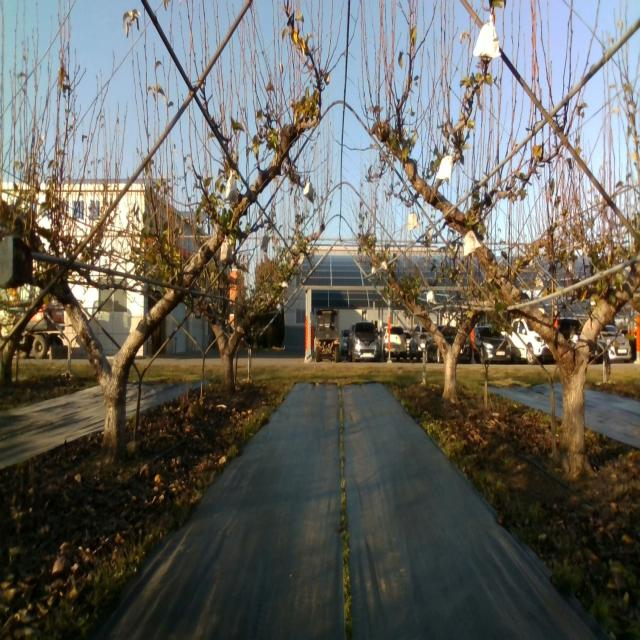pearbags: (473, 14, 500, 59), (436, 154, 453, 183), (463, 230, 481, 256), (225, 170, 237, 201), (220, 236, 232, 262), (407, 209, 420, 231)
